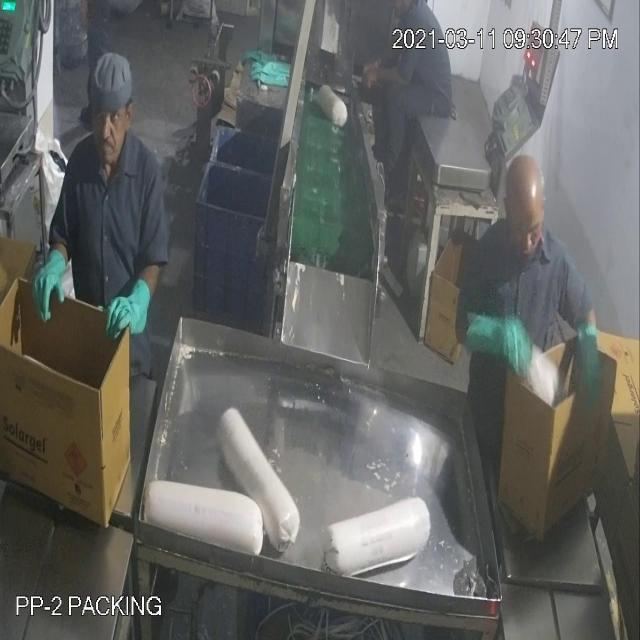Gloves: (32, 47, 589, 366)
